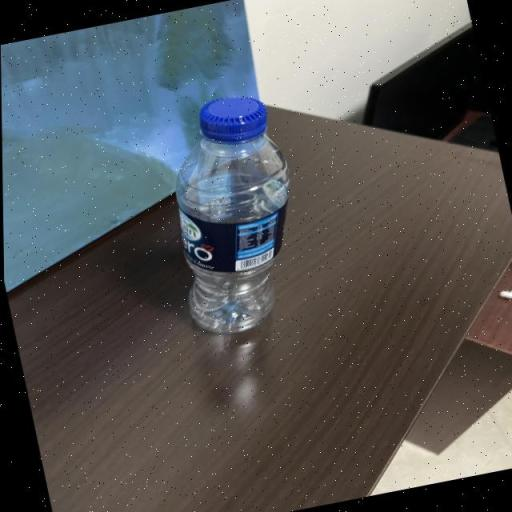plastic: (174, 98, 290, 335)
